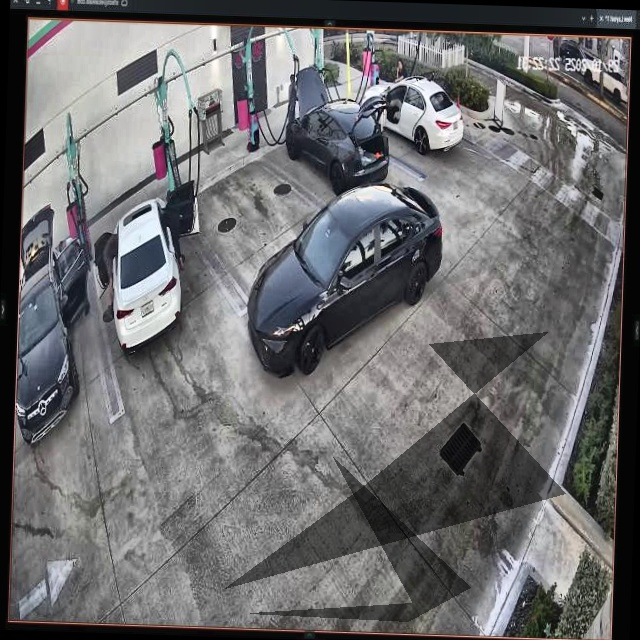Car: (244, 175, 444, 384), (90, 174, 204, 357), (283, 67, 391, 204), (361, 72, 464, 156)
